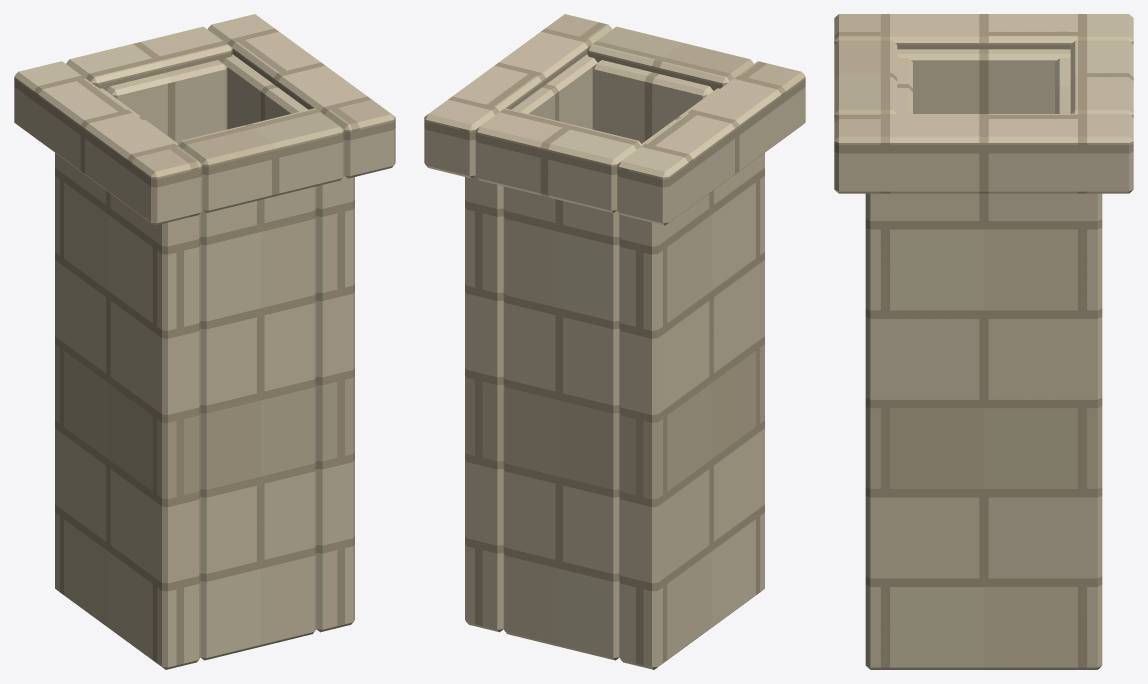
File: chimney-stone.glb
The picture shows the model from 3 angles, left to right: view 1: azimuth 30°, elevation 25°; view 2: azimuth 150°, elevation 25°; view 3: azimuth 270°, elevation 25°; orthographic projection. The views are drawn at different scales.
Visible parts, largest first — view 1: SM_Chimney_ShaftSide, SM_Chimney_ShaftEnd, SM_Chimney_ShaftSide.001, SM_Chimney_CapSide, SM_Chimney_CapEnd, SM_Chimney_CapSide.001, SM_Chimney_ShaftEnd.001, SM_Chimney_CapEnd.001; view 2: SM_Chimney_ShaftSide, SM_Chimney_ShaftEnd.001, SM_Chimney_ShaftSide.001, SM_Chimney_CapSide, SM_Chimney_CapEnd.001, SM_Chimney_CapSide.001, SM_Chimney_ShaftEnd, SM_Chimney_CapEnd; view 3: SM_Chimney_ShaftSide.001, SM_Chimney_CapSide.001, SM_Chimney_CapSide, SM_Chimney_ShaftSide, SM_Chimney_CapEnd, SM_Chimney_CapEnd.001, SM_Chimney_ShaftEnd, SM_Chimney_ShaftEnd.001.
Boxes of the visible parts, x1,y1,x2,y2 form: SM_Chimney_ShaftSide: (55,88,200,669); SM_Chimney_ShaftEnd: (200,186,316,660); SM_Chimney_ShaftSide.001: (222,54,354,632); SM_Chimney_CapSide: (14,61,202,225); SM_Chimney_CapEnd: (177,108,344,212); SM_Chimney_CapSide.001: (207,14,395,178); SM_Chimney_ShaftEnd.001: (106,60,227,143); SM_Chimney_CapEnd.001: (66,26,232,90); SM_Chimney_ShaftSide: (619,88,764,669); SM_Chimney_ShaftEnd.001: (503,186,619,660); SM_Chimney_ShaftSide.001: (465,54,597,632); SM_Chimney_CapSide: (617,61,805,225); SM_Chimney_CapEnd.001: (475,108,642,212); SM_Chimney_CapSide.001: (424,14,612,178); SM_Chimney_ShaftEnd: (592,60,713,143); SM_Chimney_CapEnd: (587,26,753,90); SM_Chimney_ShaftSide.001: (865,193,1102,669); SM_Chimney_CapSide.001: (834,114,1133,193); SM_Chimney_CapSide: (834,14,1133,49); SM_Chimney_ShaftSide: (897,49,1070,113); SM_Chimney_CapEnd: (834,40,897,117); SM_Chimney_CapEnd.001: (1070,40,1133,117); SM_Chimney_ShaftEnd: (897,58,912,113); SM_Chimney_ShaftEnd.001: (1055,58,1070,113).
Bounding box in the file's own units: 0.76 × 1.53 × 0.76.
Materials: 1 (1 with a texture image).
